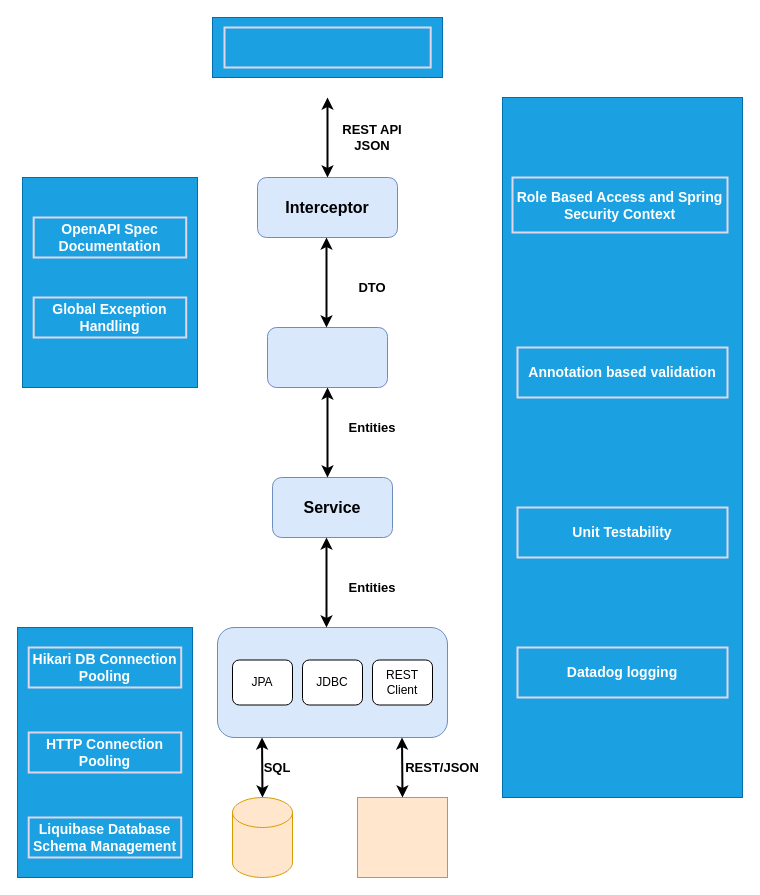
The diagram is 760 pixels wide and 895 high, and some of its shapes have lost their labels. Each missing label, with the centre of its shape:
"Apigee" goes at pixel 327 47.
"Controller" goes at pixel 327 357.
"DB" goes at pixel 262 837.
"REST APIs" goes at pixel 402 837.
